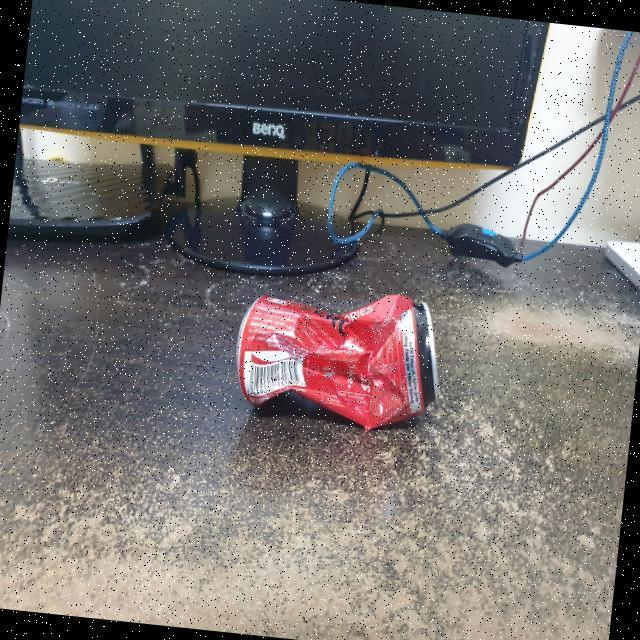can: (221, 272, 458, 453)
